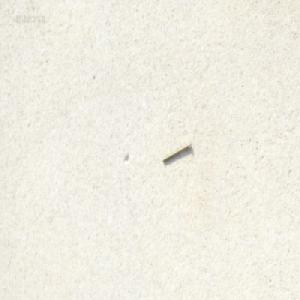Bolt: (161, 139, 189, 163)
